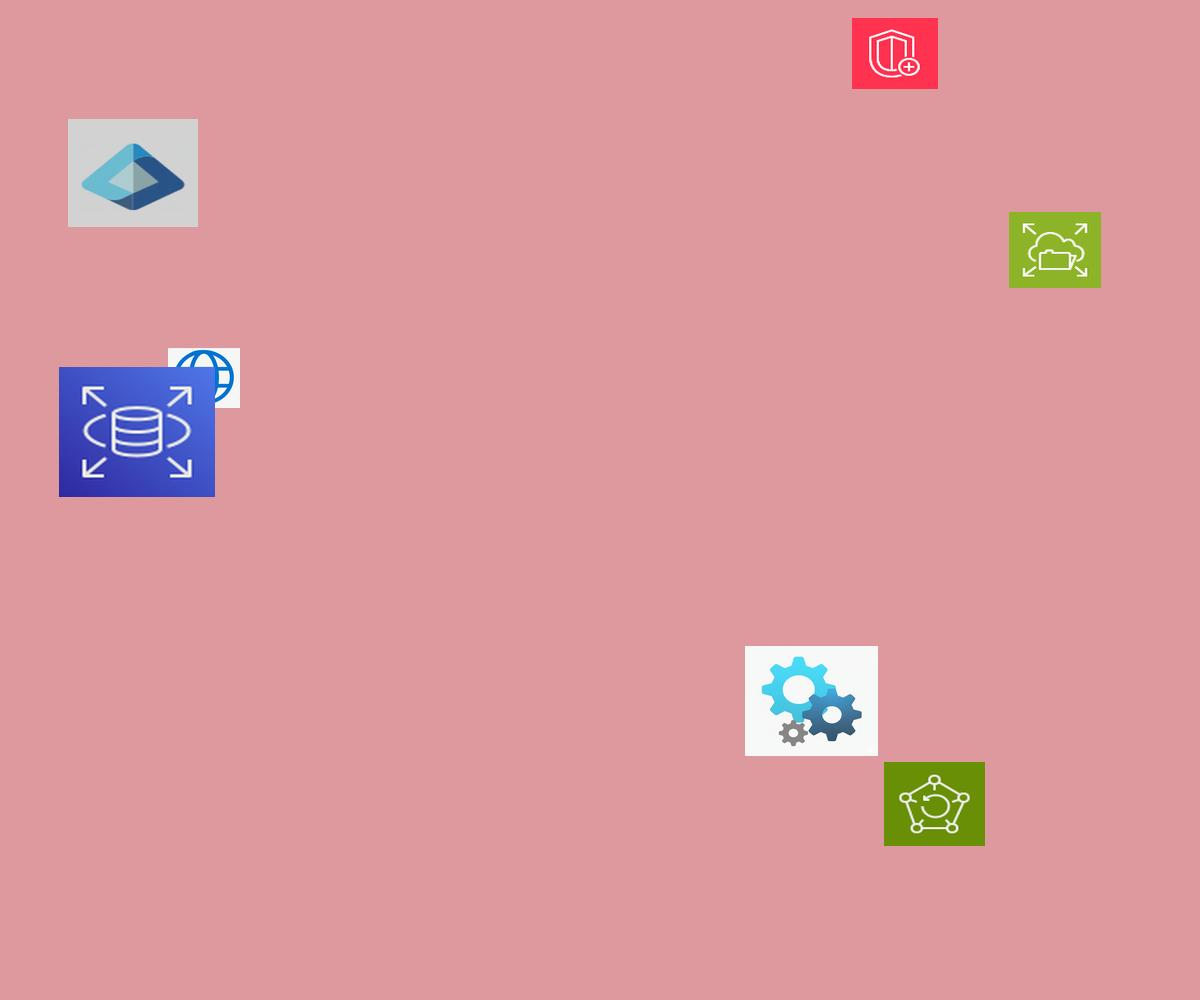AWS-Backup: (884, 762, 985, 846)
AWS-EFS: (1009, 212, 1101, 288)
AWS-RDS: (59, 367, 215, 497)
AWS-Shield: (852, 18, 938, 89)
Azure_api: (745, 646, 878, 756)
Azure_http: (168, 348, 240, 408)
Azure_microsoft_entra: (68, 119, 198, 227)
